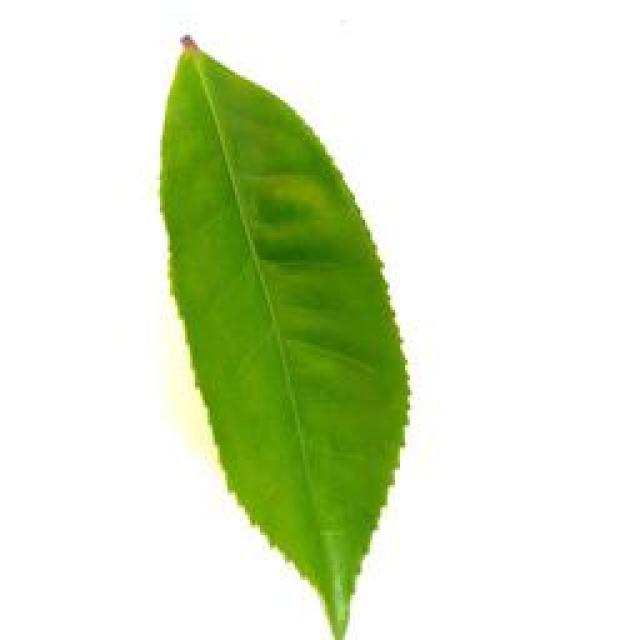Healthy: (141, 24, 419, 637)
